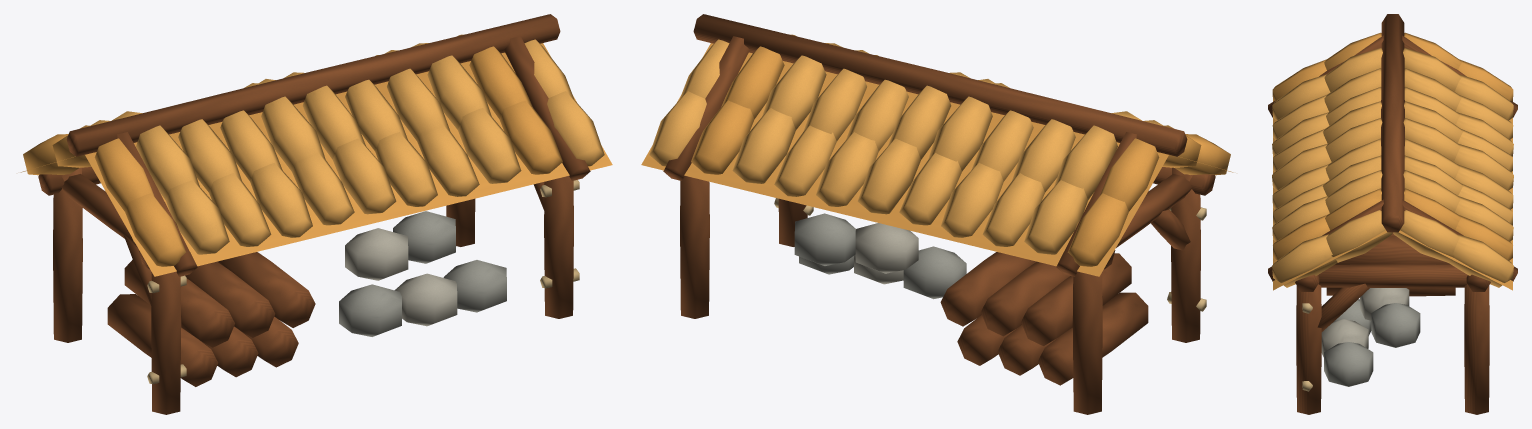
The model's file is storage_v2.glb.
3 views of the same model, side by side, from view 1: azimuth 30°, elevation 25°; view 2: azimuth 150°, elevation 25°; view 3: azimuth 270°, elevation 25° (orthographic). The views are drawn at different scales.
Parts seen in each view (by area): view 1: StorageV2; view 2: StorageV2; view 3: StorageV2.
Part boxes in pixels (x1,y1,x2,y2): StorageV2: [20, 14, 612, 414]; StorageV2: [641, 14, 1233, 414]; StorageV2: [1268, 14, 1517, 414].
Size of the model in its own units: 5.14 by 2.58 by 2.71.
Materials: 1 (1 with a texture image).
